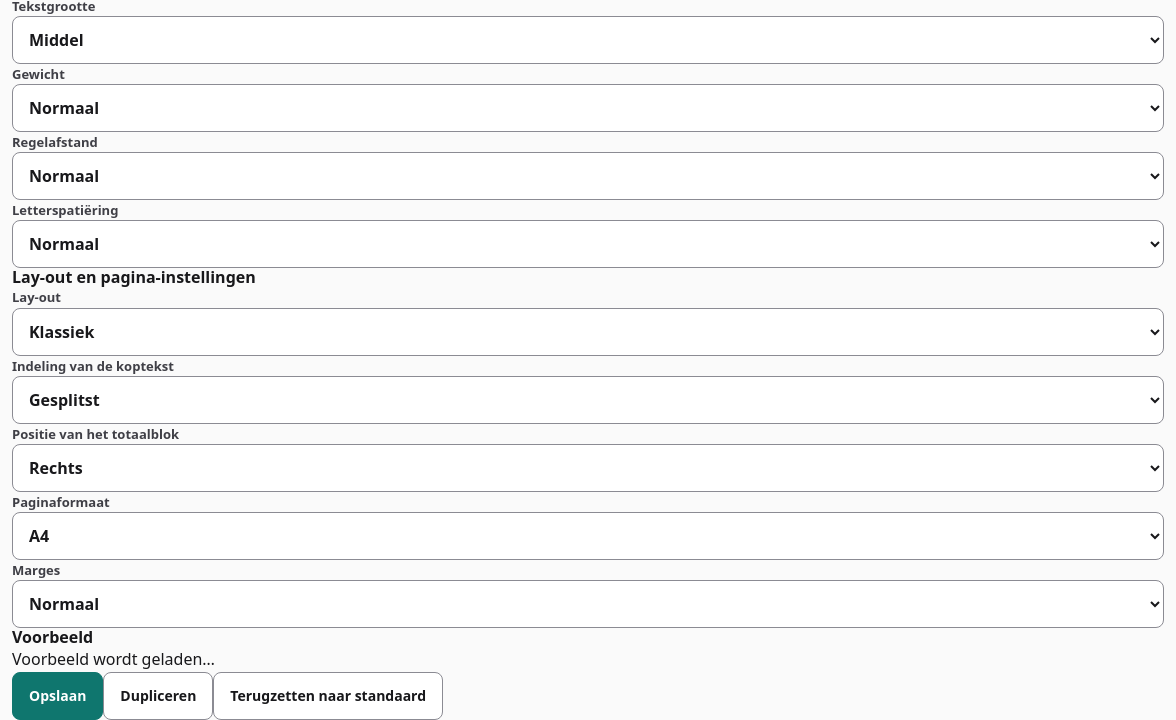
Test: a 422 shows each violation inline at its own location — FR-TPL-009 › falls back to a clearly-worded general area for a violation with no matching row, rather than swallowing it
(page scrolled)
Step 1. Click the button with test id "template-save" → (58, 696), box [12,672,103,719]
(page scrolled)
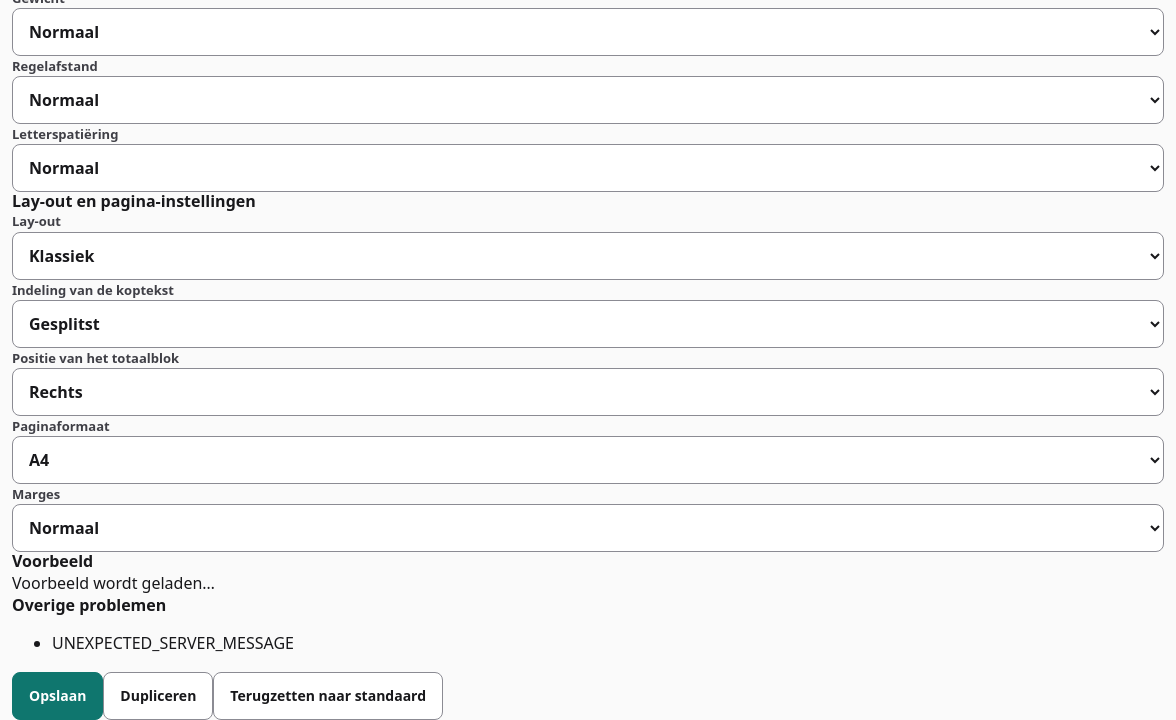
Check: the element with test id "template-unmapped-violations" is shown, box [12,594,294,654]
Check: the element with test id "template-unmapped-violations" shows "UNEXPECTED_SERVER_MESSAGE", box [52,632,294,654]
